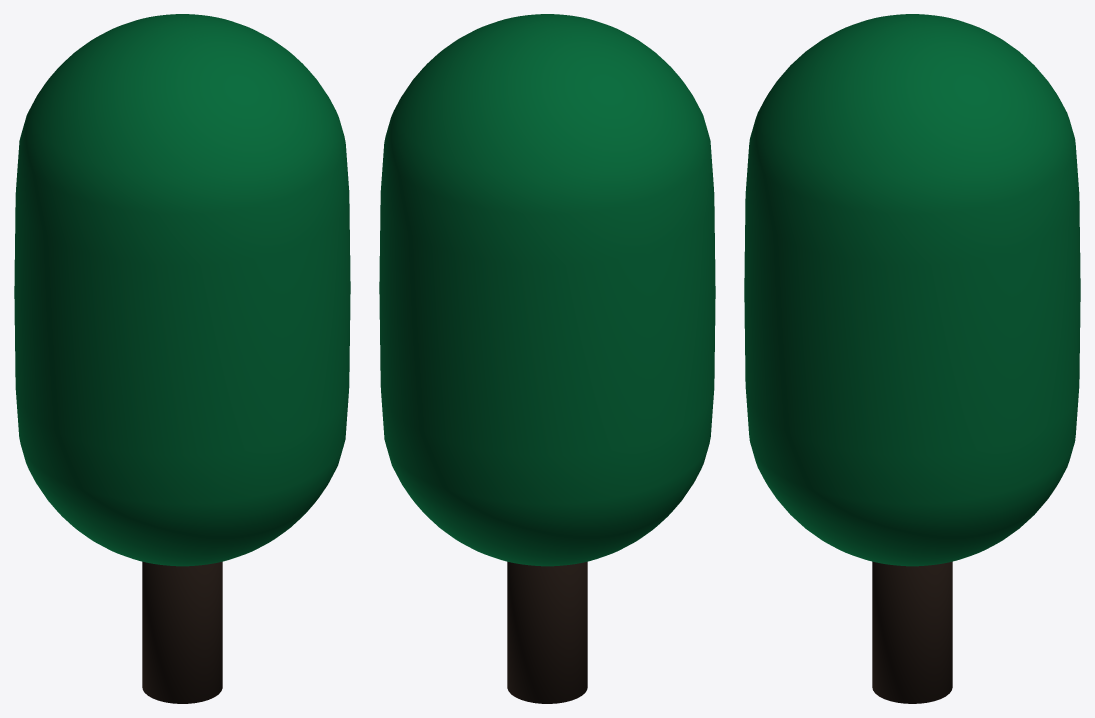
3 views of the same model, side by side, from view 1: azimuth 30°, elevation 25°; view 2: azimuth 150°, elevation 25°; view 3: azimuth 270°, elevation 25° (orthographic).
Visible parts, largest first — view 1: Sphere.018, wood.001; view 2: Sphere.018, wood.001; view 3: Sphere.018, wood.001.
Part boxes in pixels (x1,y1,x2,y2): Sphere.018: [14, 14, 350, 566]; wood.001: [142, 561, 222, 703]; Sphere.018: [379, 14, 715, 566]; wood.001: [507, 561, 587, 703]; Sphere.018: [744, 14, 1080, 566]; wood.001: [872, 561, 952, 703].
Bounding box in the file's own units: 1.7 × 3.67 × 1.7.
